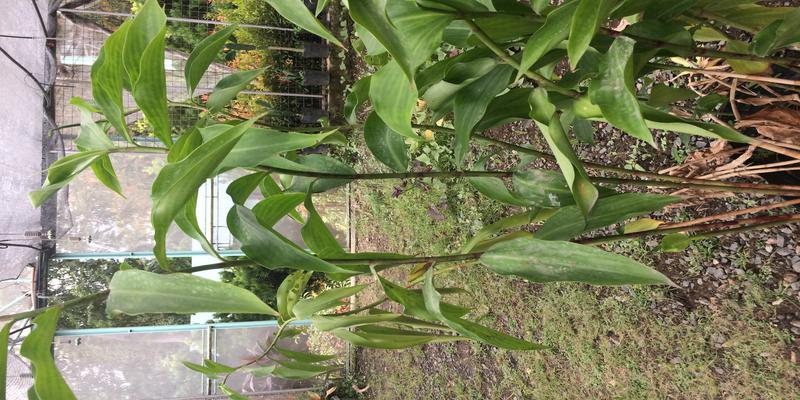Insulin: (353, 2, 800, 268)
